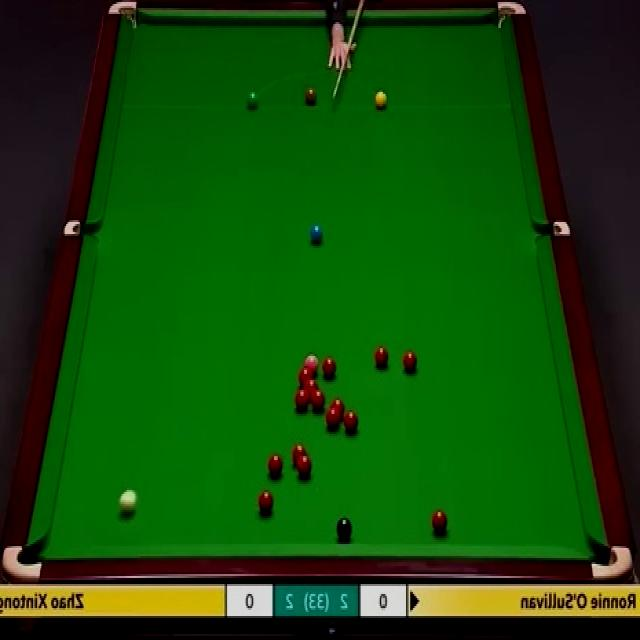black-ball: (337, 519, 353, 539)
blue-ball: (310, 225, 324, 242)
brown-ball: (305, 88, 316, 106)
green-ball: (245, 88, 260, 110)
pink-ball: (304, 354, 319, 374)
red-ball: (267, 452, 284, 477), (431, 511, 448, 534), (298, 366, 315, 389), (296, 455, 312, 479), (258, 490, 273, 514), (321, 358, 339, 378), (344, 409, 359, 433), (374, 343, 389, 366), (402, 352, 418, 372), (294, 388, 309, 408), (331, 398, 344, 418), (326, 408, 339, 428), (312, 389, 324, 408)
white-ball: (119, 489, 137, 514)
yellow-ball: (375, 90, 387, 110)
